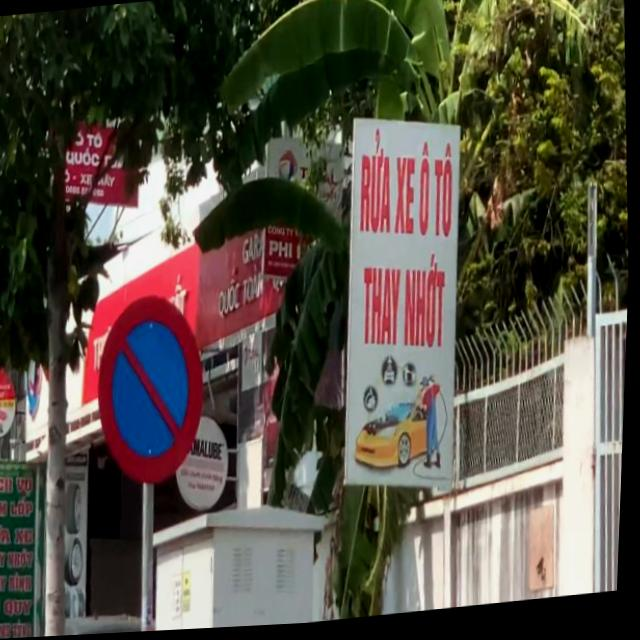Cam do xe: (93, 290, 215, 493)
